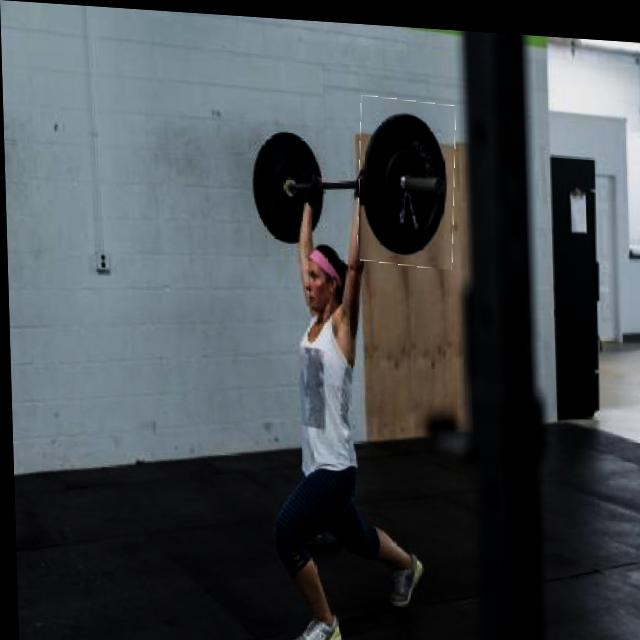barbell: (356, 92, 458, 264)
